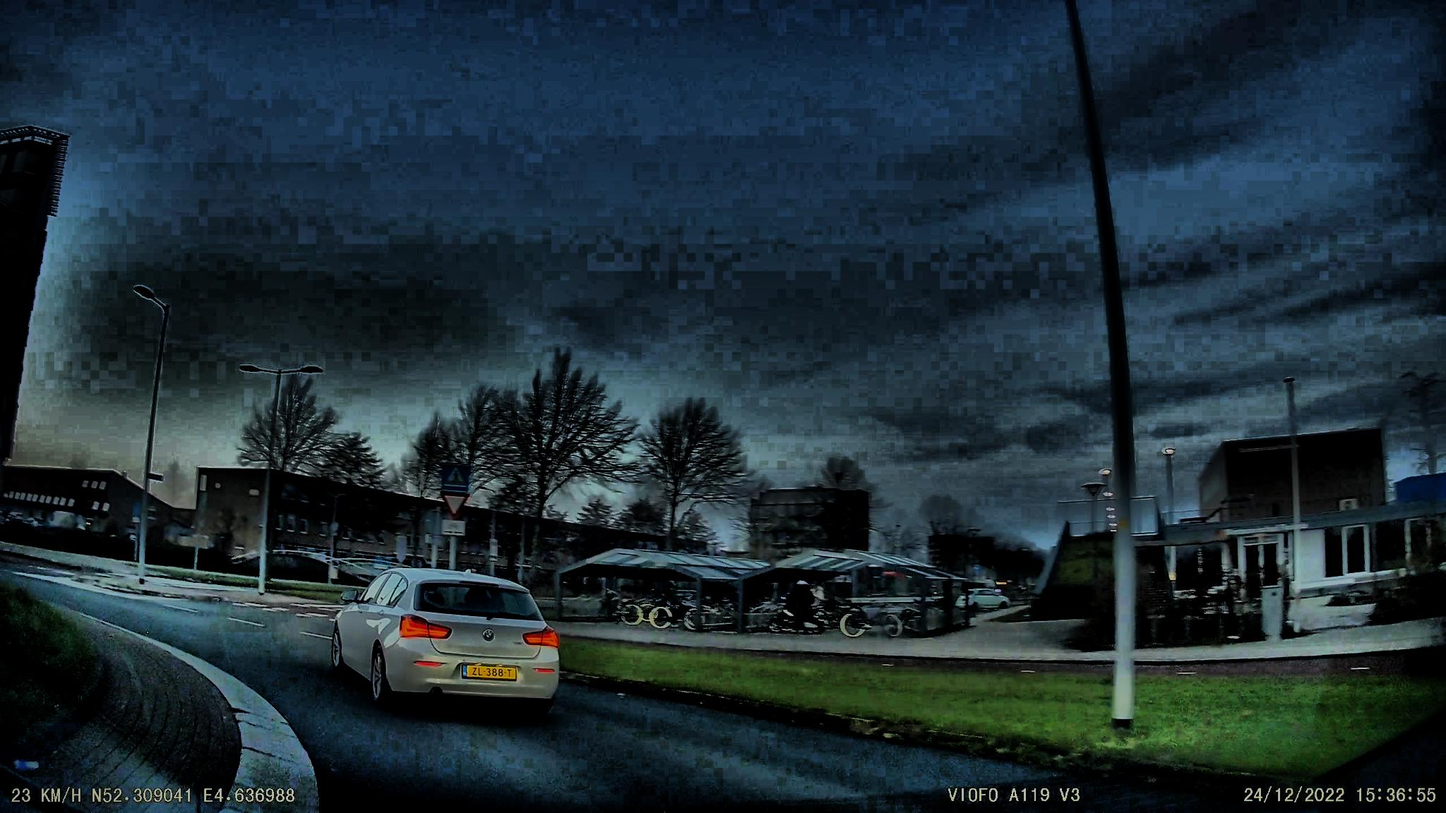Roads: (58, 594, 1259, 813)
